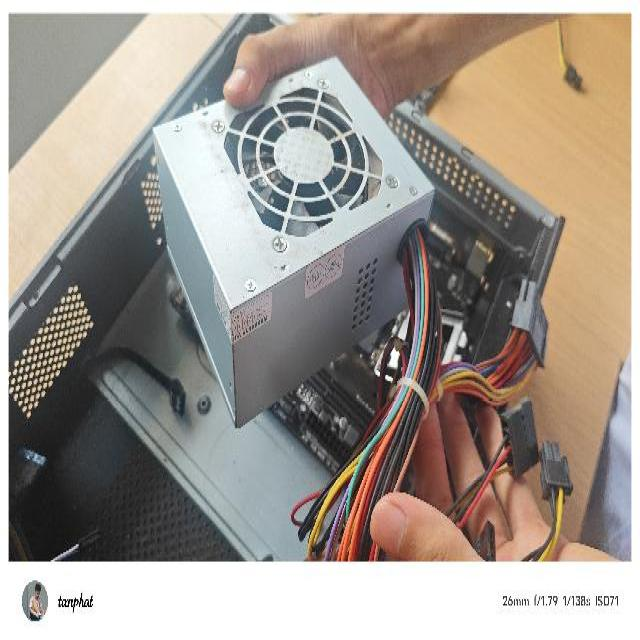PSU: (150, 53, 446, 432)
